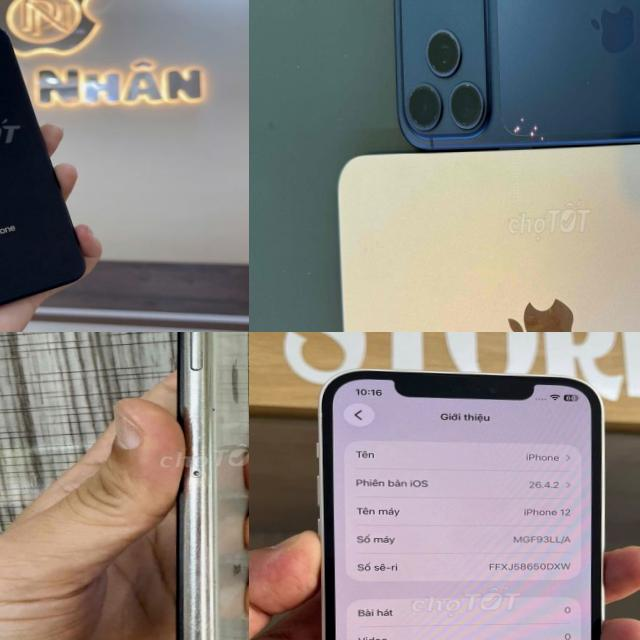scratch: (505, 88, 565, 165)
